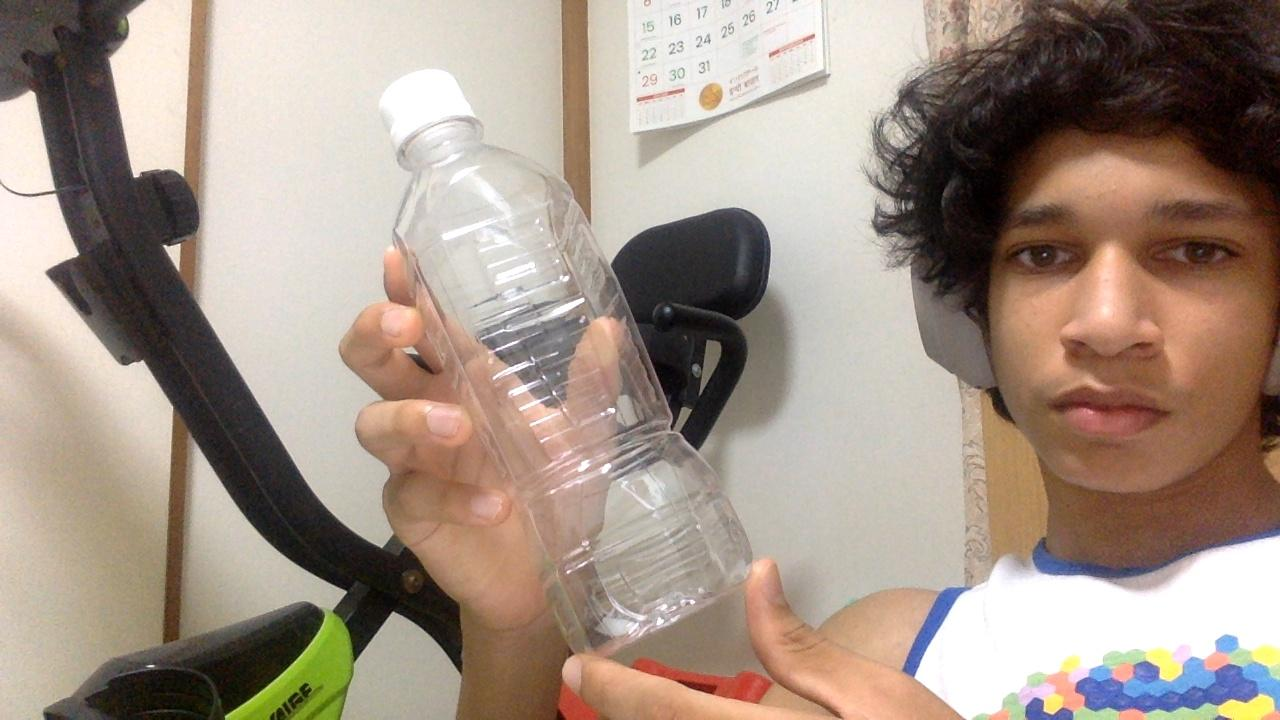Plastic: (372, 69, 759, 666)
